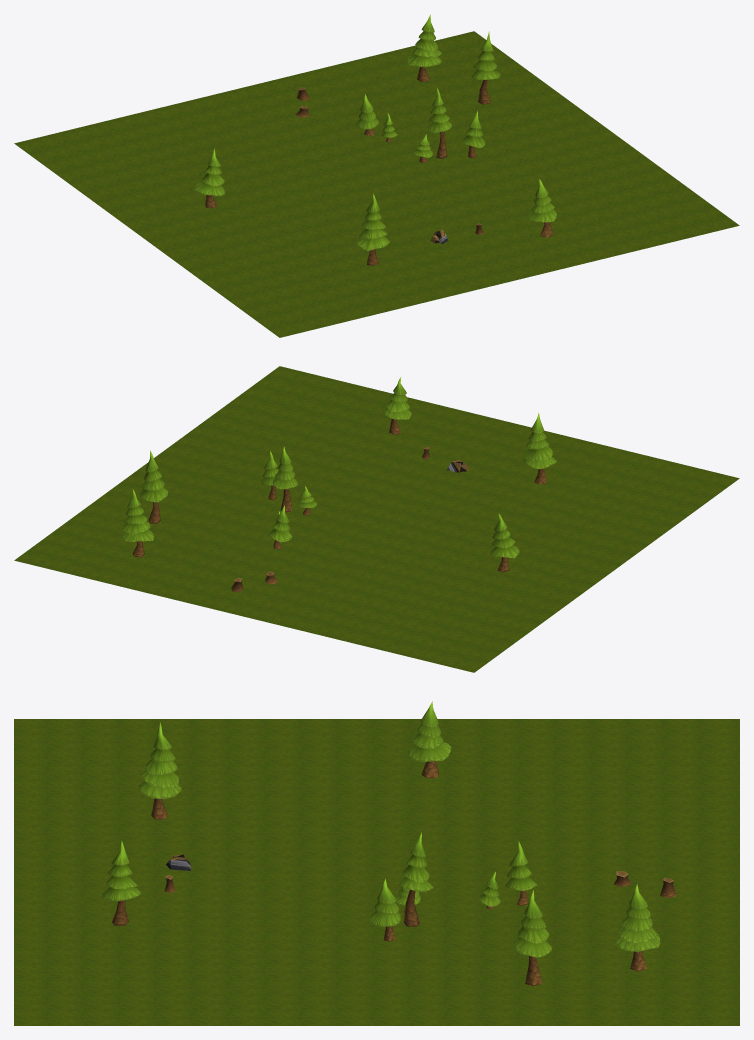
Rendered from Map.glb.
3 renders of one model, top to bottom at view 1: azimuth 30°, elevation 25°; view 2: azimuth 150°, elevation 25°; view 3: azimuth 270°, elevation 25°, orthographic. The views are drawn at different scales.
Visible parts, largest first — view 1: Plane, Tree01B, Tree01A, Tree03A, Tree02B, Tree02A, Tree03B, Tree04B; view 2: Plane, Tree01B, Tree01A, Tree03A, Tree02B, Tree02A, Tree03B, Tree04A; view 3: Plane, Tree01B, Tree01A, Tree03A, Tree02B, Tree02A, Tree03B, Tree04B, Tree04A.
Boxes of the visible parts, x1,y1,x2,y2 form: Plane: (14,31,739,337); Tree01B: (356,193,389,265); Tree01A: (407,14,441,81); Tree03A: (471,31,500,104); Tree02B: (194,148,225,208); Tree02A: (528,179,556,237); Tree03B: (427,88,451,158); Tree04B: (462,110,485,158); Plane: (14,366,739,672); Tree01B: (523,413,556,484); Tree01A: (121,489,154,557); Tree03A: (139,450,168,523); Tree02B: (490,513,519,572); Tree02A: (383,377,411,434); Tree03B: (272,446,298,512); Tree04A: (269,505,292,549); Plane: (14,719,739,1025); Tree01B: (138,722,181,819); Tree01A: (614,884,660,971); Tree03A: (514,890,551,986); Tree02B: (408,701,451,778); Tree02A: (102,840,141,925); Tree03B: (399,832,433,926); Tree04B: (369,879,400,941); Tree04A: (505,841,537,905).
Size of the model in its own units: 40 by 5.88 by 40.
3 materials, 3 textured.
